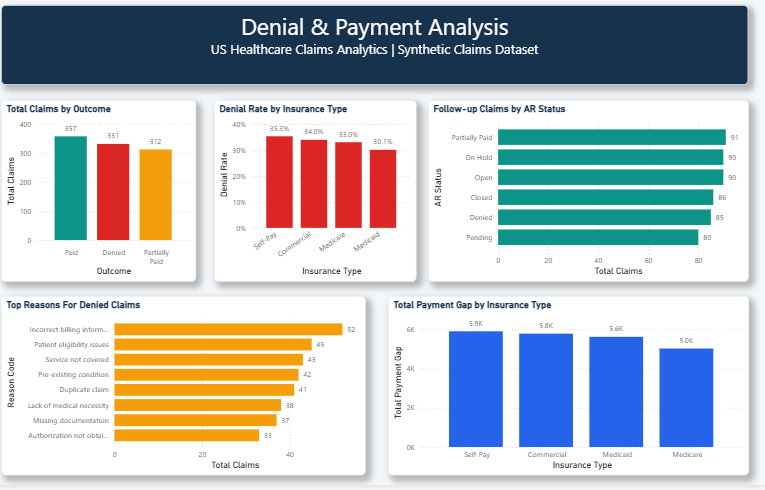

This screenshot's page, from the dashboard's own definition file:
{"tool":"powerbi","page":{"name":"Denial & Payment Analysis","canvas":[1280,800],"ordinal":1},"visuals":[{"type":"clusteredColumnChart","fields":{"Category":["claim_data.Outcome"],"Y":["claim_data.Total Claims"]},"box":[23.6,168.5,319.7,297.6],"z":0},{"type":"clusteredBarChart","title":"Top Reasons For Denied Claims","fields":{"Category":["claim_data.Reason Code"],"Y":["claim_data.Total Claims"]},"box":[23.6,489.8,598.4,294.5],"z":1000},{"type":"clusteredColumnChart","fields":{"Category":["claim_data.Insurance Type"],"Y":["claim_data.Denial Rate"]},"box":[371.7,168.5,332.3,297.6],"z":2000},{"type":"clusteredColumnChart","fields":{"Category":["claim_data.Insurance Type"],"Y":["claim_data.Total Payment Gap"]},"box":[656.7,489.8,592.1,294.5],"z":3000},{"type":"clusteredBarChart","title":"Follow-up Claims by AR Status","fields":{"Category":["claim_data.AR Status"],"Y":["claim_data.Total Claims"]},"box":[722.8,168.5,526,297.6],"z":4000},{"type":"textbox","box":[23.6,12.6,1225.2,130.7],"z":5000}]}

Visuals, with their boxes in screenshot pixels (x1, y1, x2, y2), scaled from the page's 1280x800 canvas onto the 765x490 screenshot:
clusteredColumnChart - claim_data.Outcome x claim_data.Total Claims: 14,103,205,285
"Top Reasons For Denied Claims" clusteredBarChart: 14,300,372,480
clusteredColumnChart - claim_data.Insurance Type x claim_data.Denial Rate: 222,103,421,285
clusteredColumnChart - claim_data.Insurance Type x claim_data.Total Payment Gap: 392,300,746,480
"Follow-up Claims by AR Status" clusteredBarChart: 432,103,746,285
textbox: 14,8,746,88
